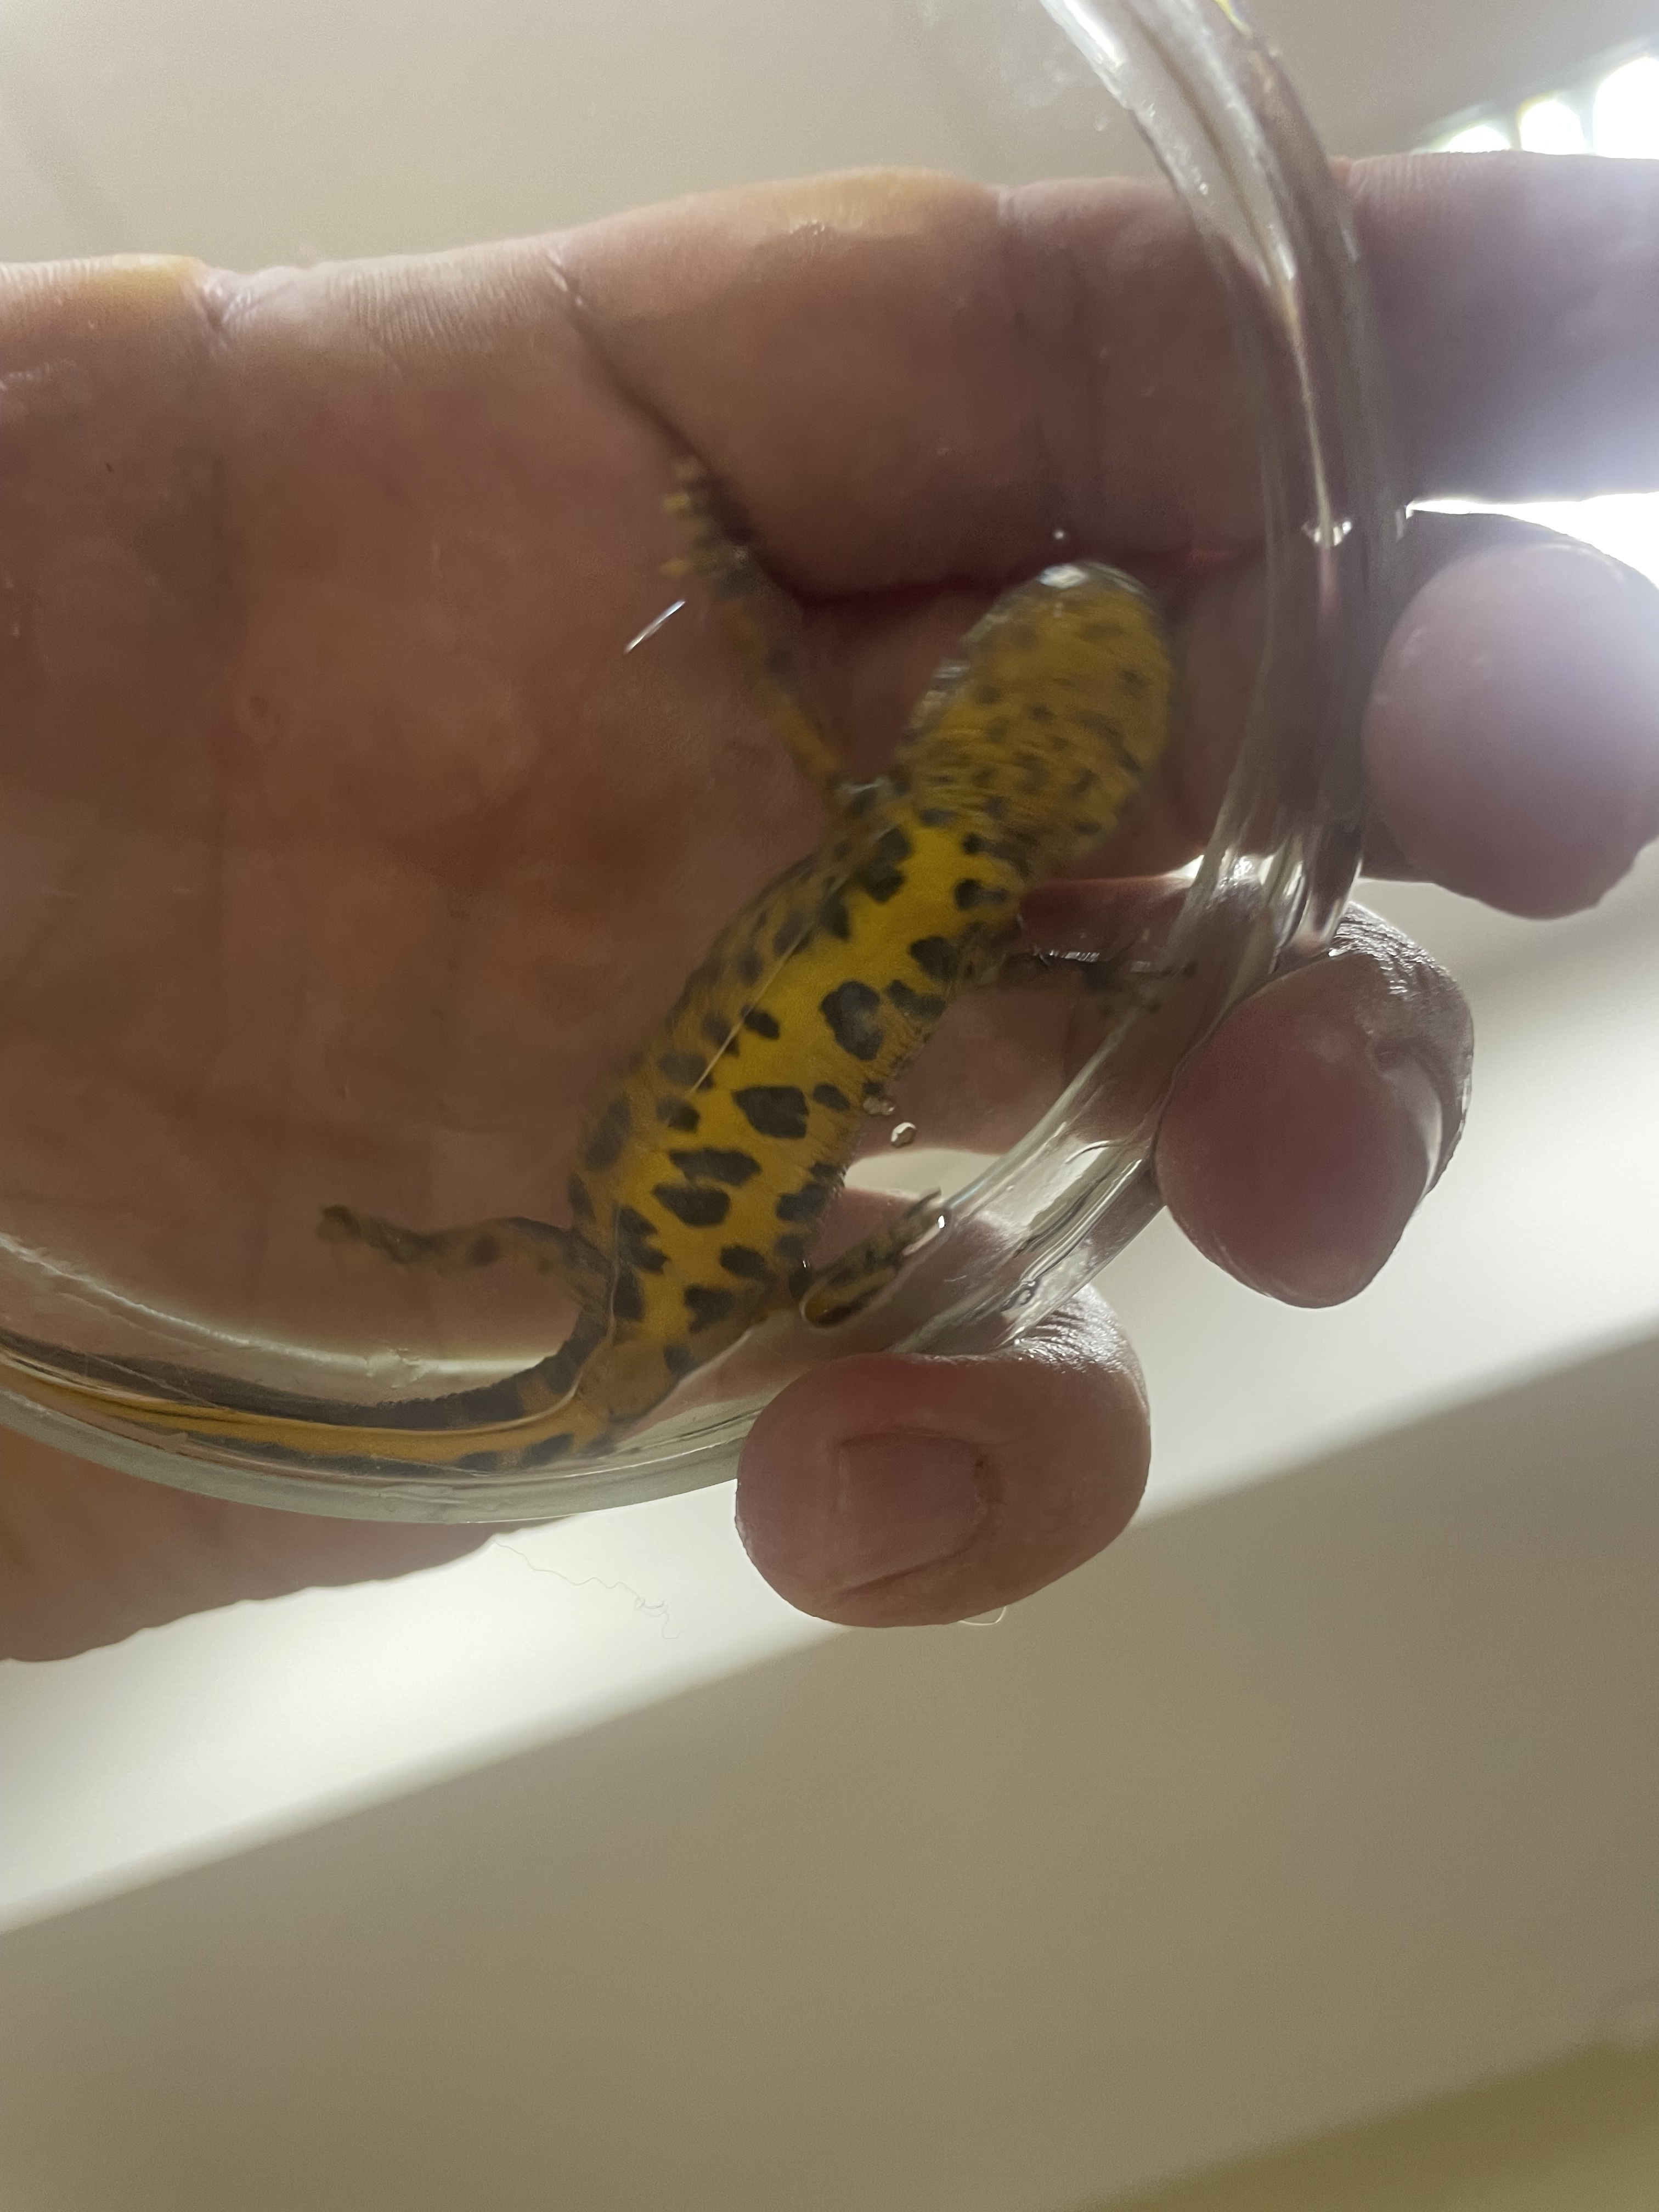Karelin_newt: (566, 817, 972, 1264)
